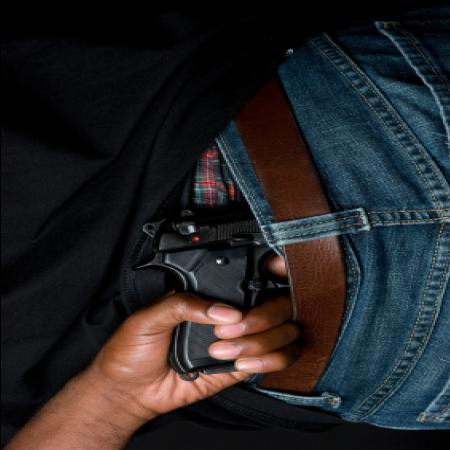Pistol: (129, 201, 345, 382)
